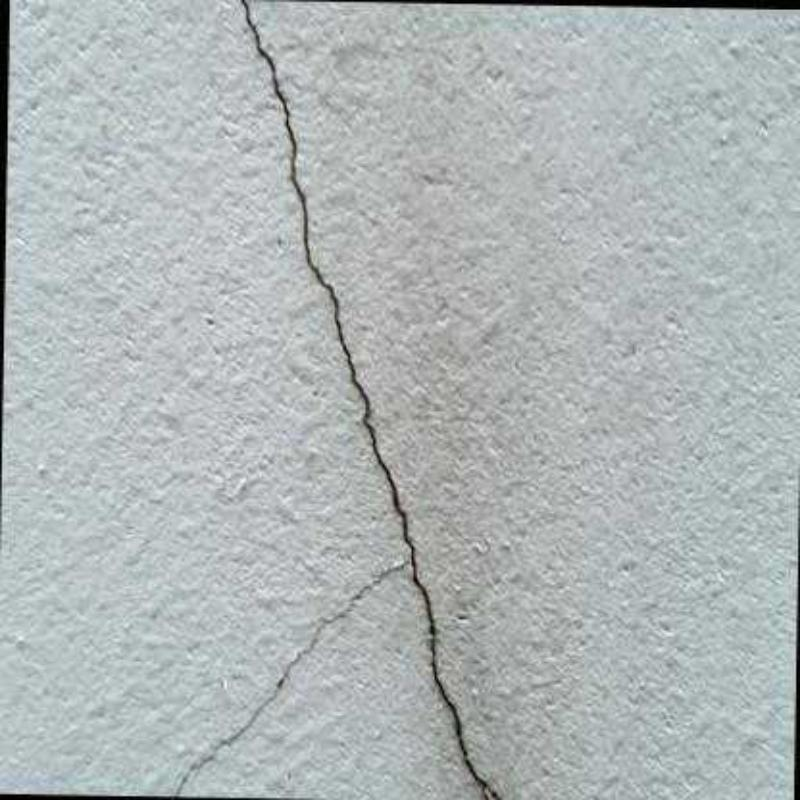pothole: (240, 0, 503, 796), (171, 562, 406, 798)
